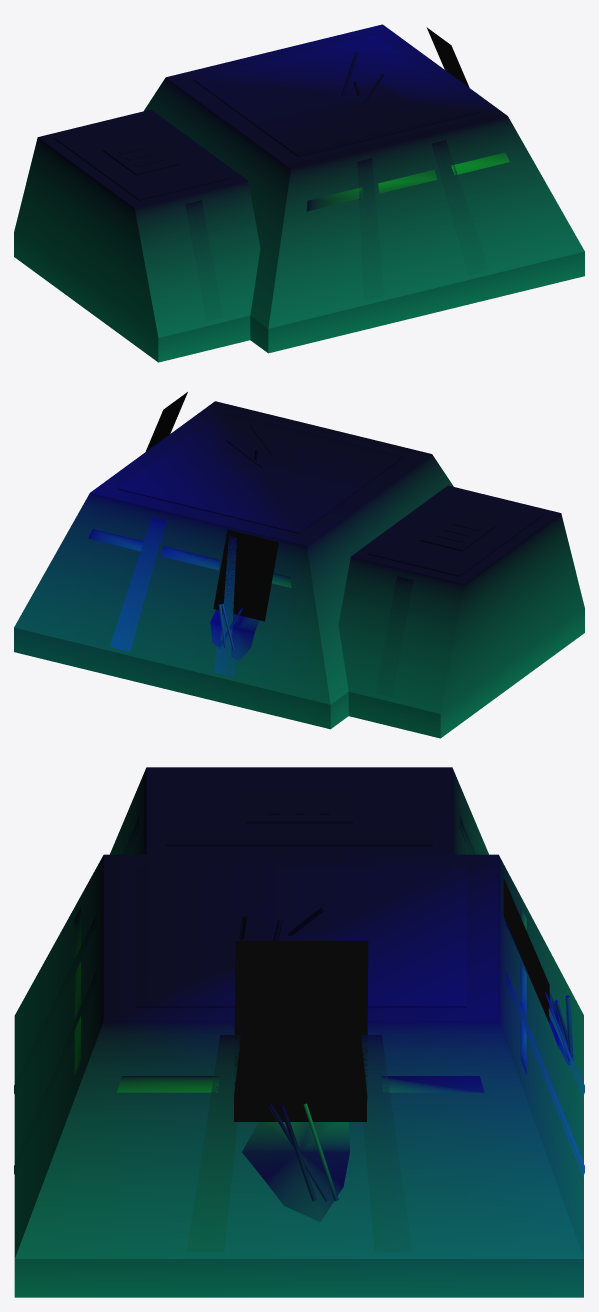
File: hpg_end_damaged.glb
The picture shows the model from 3 angles, top to bottom: view 1: azimuth 30°, elevation 25°; view 2: azimuth 150°, elevation 25°; view 3: azimuth 270°, elevation 25°; orthographic projection. The views are drawn at different scales.
Visible parts, largest first — view 1: lod0; view 2: lod0; view 3: lod0.
Boxes of the visible parts, x1,y1,x2,y2 form: lod0: (14,24,584,362); lod0: (14,392,584,738); lod0: (14,767,584,1297).
Size of what is drawn, in the model's own units: 20.92 by 9.55 by 16.05.
